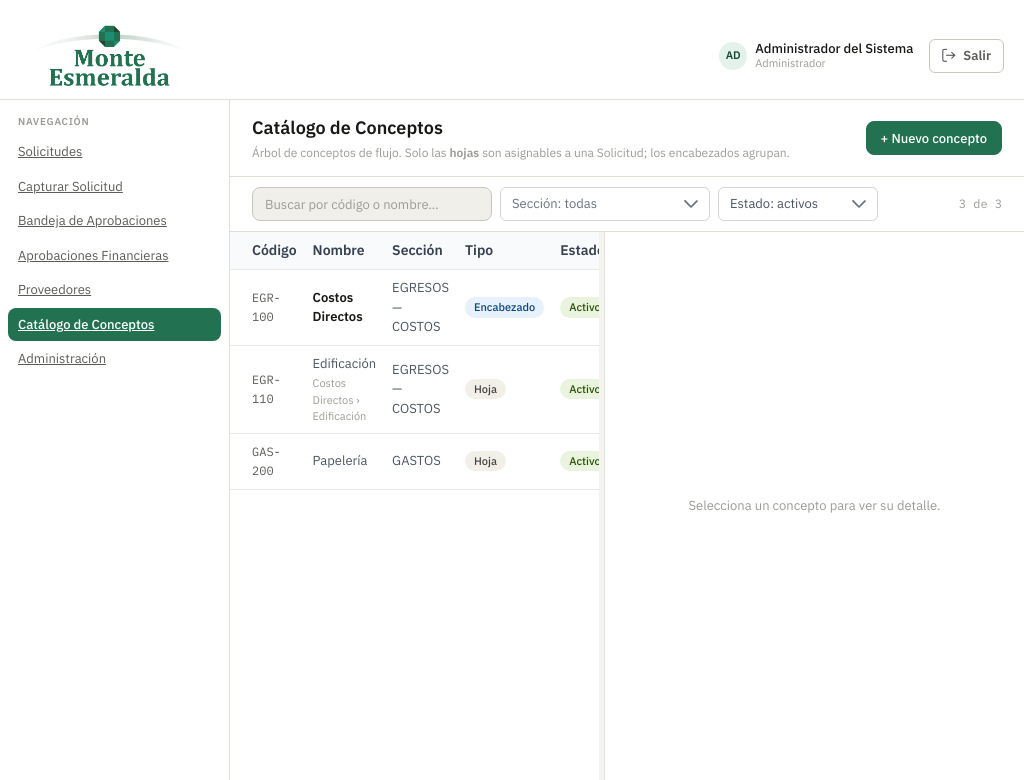
Test case: la búsqueda filtra localmente por código o nombre
Expected: the text "EGR-100" is shown, x1=252 y1=290 x2=281 y2=324
Step 1. Type "papel" into the search field named "Buscar concepto" → (372, 204), box x1=252 y1=187 x2=492 y2=221
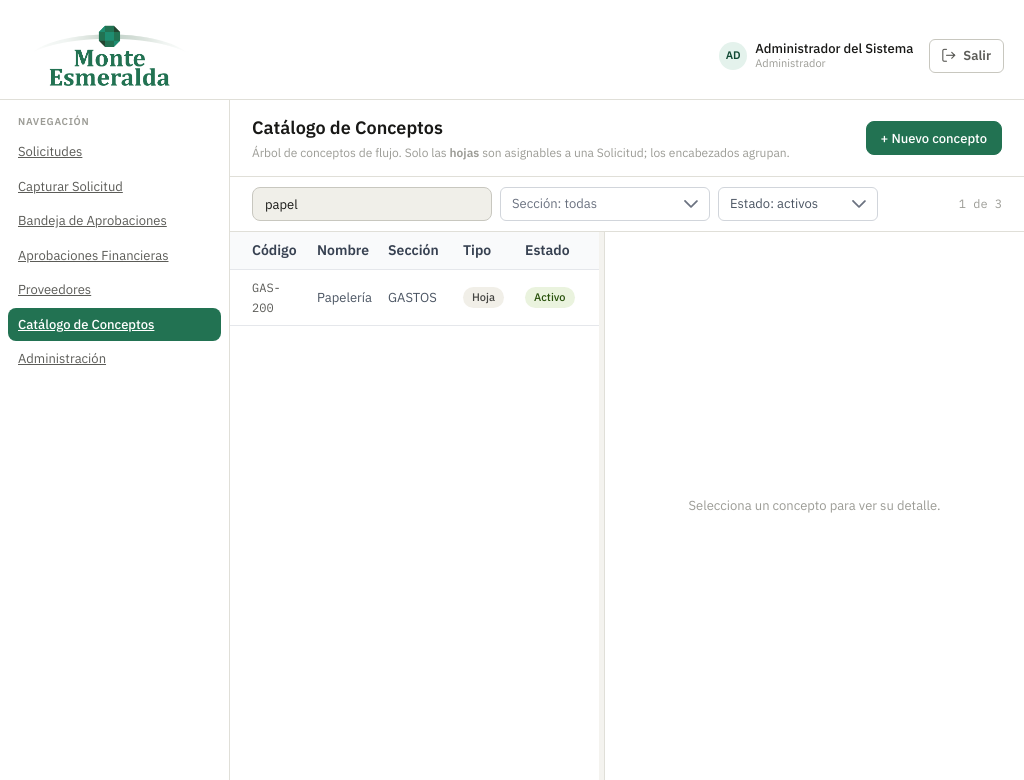
Expected: the text "Papelería" is shown, x1=317 y1=288 x2=372 y2=307
Result: the text "Edificación" is gone
Result: the text "1 de 3" is shown at x1=959 y1=195 x2=1002 y2=213
